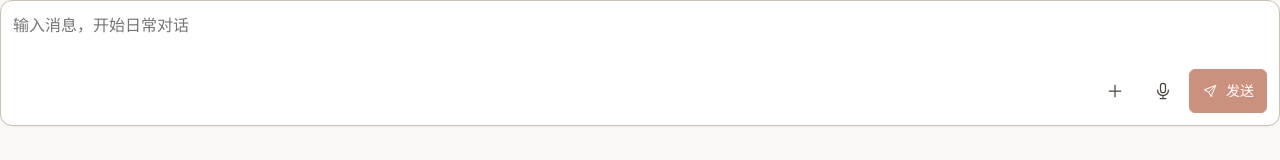
Test: Composer 听写 › 转写失败保留同一段音频并可原样重试
The width and height of the screenshot is (1280, 160).
Click the button named "开始听写": [1163, 91] box [1141,69,1185,113]
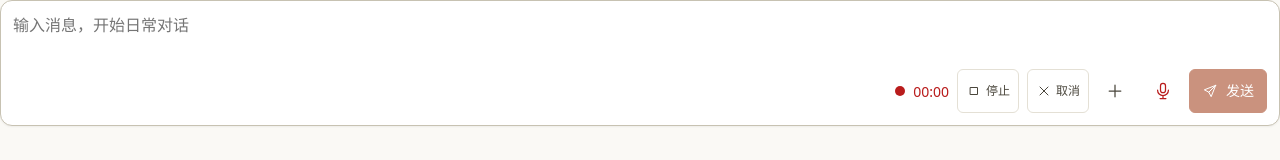
Expected: the button with aria-label "停止录音并转写" is shown
Click the button with aria-label "停止录音并转写": [988, 91] box [957,69,1019,113]
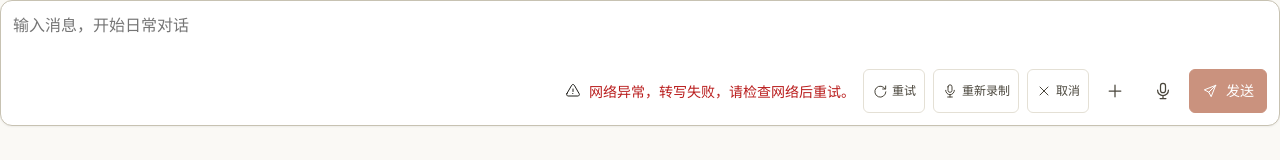
Expected: the text "网络异常，转写失败，请检查网络后重试。" is shown, [589,80,855,102]
Click the button with aria-label "重试转写": [894, 91] box [863,69,925,113]
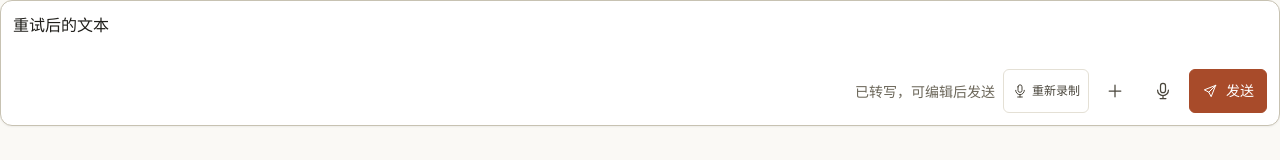
Expected: the text box holds "重试后的文本", [13,13,1267,61]
